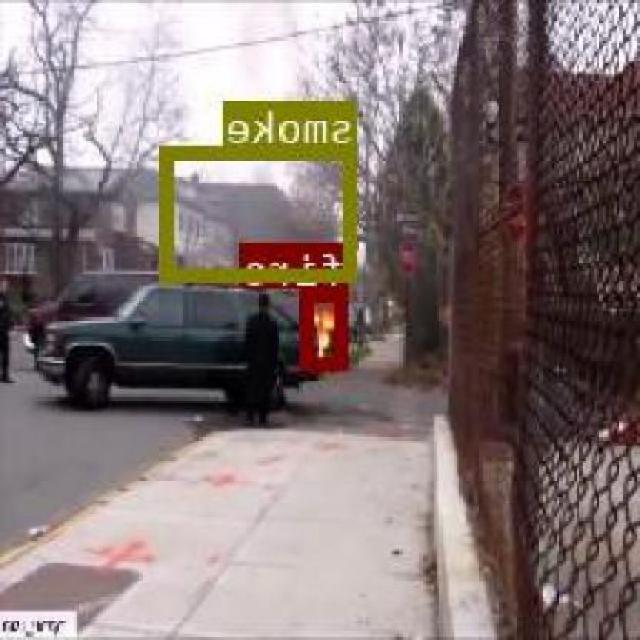Fire: (304, 286, 350, 368)
Smoke: (165, 145, 358, 278)
